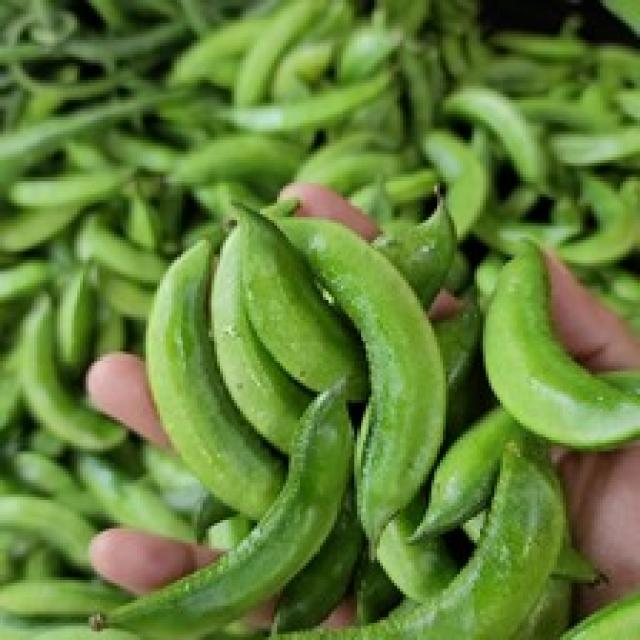organik: (127, 188, 633, 640)
